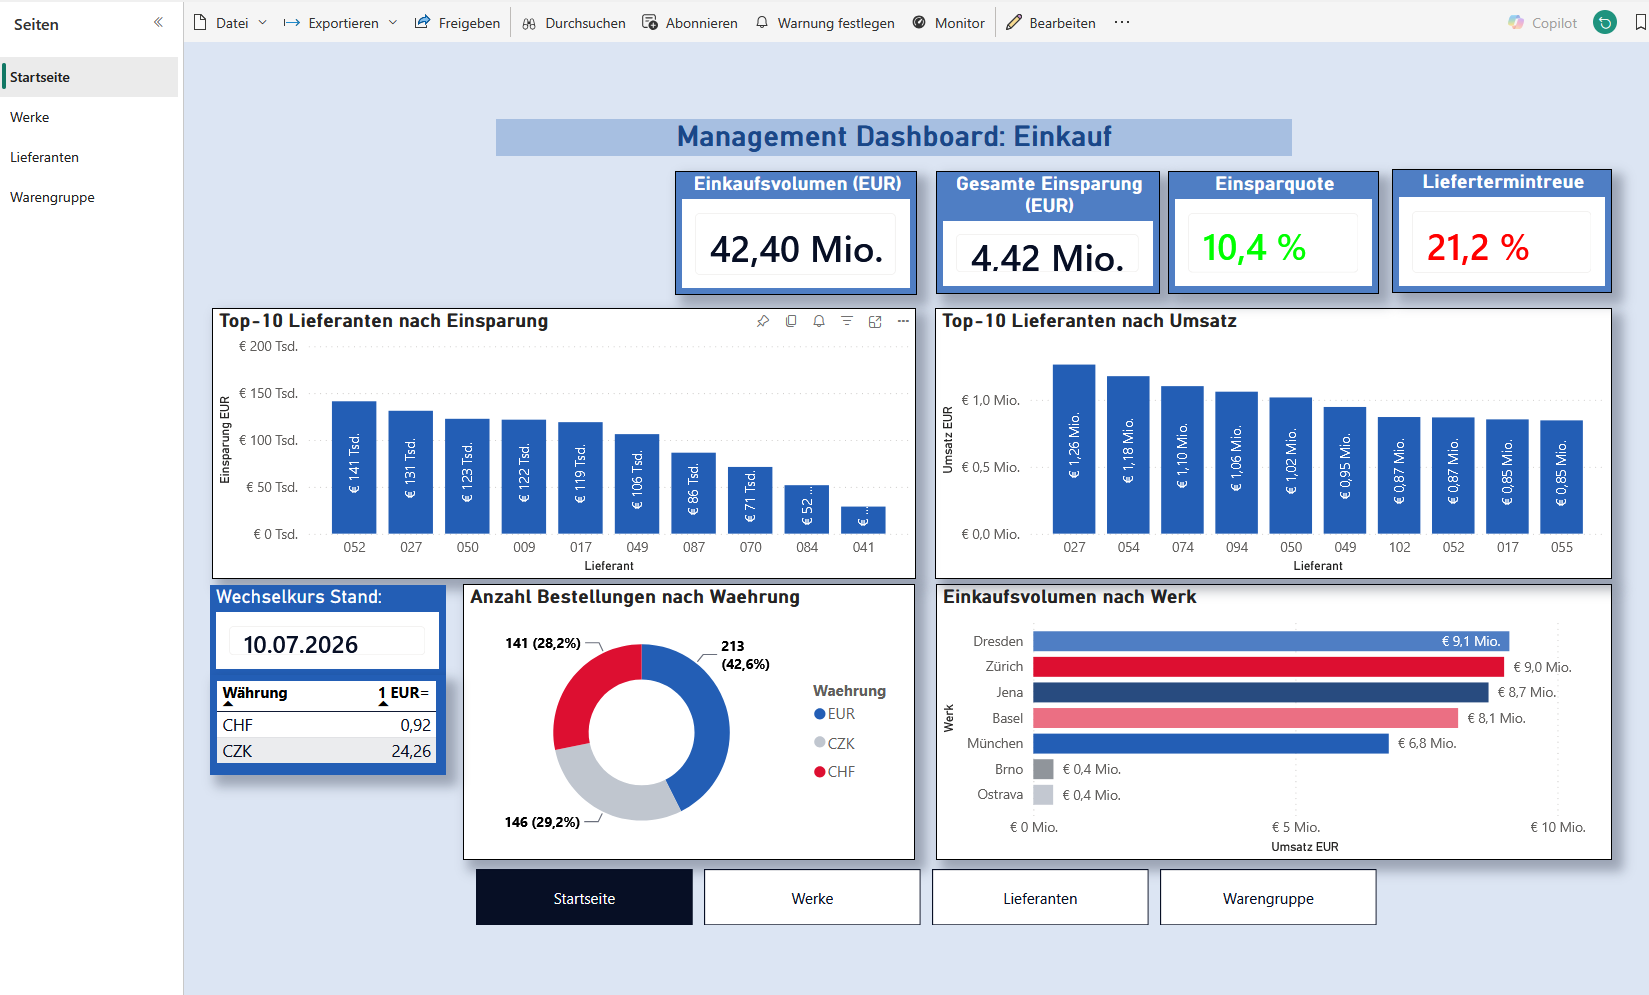

This screenshot's page, from the dashboard's own definition file:
{"tool":"powerbi","page":{"name":"Startseite","canvas":[1280,720],"ordinal":0},"visuals":[{"type":"cardVisual","title":"Einkaufsvolumen (EUR)","fields":{"Data":["Einkaufsdaten.Gesamt Einkaufsvolumen EUR"]},"box":[425.7,51.4,214.3,110],"z":0},{"type":"textbox","title":"Management Dashboard: Einkauf","box":[267.5,5,705.3,32.3],"z":1000},{"type":"cardVisual","title":"Gesamte Einsparung (EUR)","fields":{"Data":["Einkaufsdaten.Gesamte Einsparung"]},"box":[657.1,51.4,198.6,108.6],"z":2000},{"type":"clusteredBarChart","title":"Einkaufsvolumen nach Werk","fields":{"Category":["Einkaufsdaten.Werk","Einkaufsdaten.Lieferant","Einkaufsdaten.Bestellnummer"],"Y":["Sum(Einkaufsdaten.Bestellwert Euro)"]},"box":[657.1,417.1,598.6,244.3],"z":3000},{"type":"columnChart","title":"Top-10 Lieferanten nach Umsatz","fields":{"Category":["Einkaufsdaten.Lieferant"],"Y":["Sum(Einkaufsdaten.Bestellwert Euro)"]},"box":[656.8,172.9,599.6,240.1],"z":4000},{"type":"columnChart","title":"Top-10 Lieferanten nach Einsparung","fields":{"Category":["Einkaufsdaten.Lieferant"],"Y":["Sum(Einkaufsdaten.Einsparung EUR)"]},"box":[16.2,172.9,623.2,240.1],"z":5000},{"type":"donutChart","fields":{"Category":["Einkaufsdaten.Waehrung"],"Y":["Einkaufsdaten.Anzahl Bestellungen"]},"box":[238.6,417.1,400,244.3],"z":6000},{"type":"pageNavigator","box":[250,670,800,50],"z":7000},{"type":"cardVisual","title":"Wechselkurs Stand:","fields":{"Data":["Wechselkurs.Stand Wechselkurse"]},"box":[14,417.9,208.9,79.9],"z":9000},{"type":"tableEx","fields":{"Values":["Wechselkurs.Währung","Wechselkurs.Einheiten pro EUR"]},"box":[14,497.8,208.9,88.3],"z":10000},{"type":"cardVisual","title":"Einsparquote","fields":{"Data":["Einkaufsdaten.Einsparquote"]},"box":[862.9,51.4,187.1,108.6],"z":11000},{"type":"cardVisual","title":"Liefertermintreue","fields":{"Data":["Einkaufsdaten.Liefertermintreue"]},"box":[1061.2,50,195,110],"z":12000}]}

Visuals, with their boxes on the page's 1280x720 design canvas (x1, y1, x2, y2). These are canvas units, not pixel positions in the 1649x995 screenshot, which may show the page scaled, cropped or inside an application window:
"Einkaufsvolumen (EUR)" cardVisual: box(426, 51, 640, 161)
"Management Dashboard: Einkauf" textbox: box(268, 5, 973, 37)
"Gesamte Einsparung (EUR)" cardVisual: box(657, 51, 856, 160)
"Einkaufsvolumen nach Werk" clusteredBarChart: box(657, 417, 1256, 661)
"Top-10 Lieferanten nach Umsatz" columnChart: box(657, 173, 1256, 413)
"Top-10 Lieferanten nach Einsparung" columnChart: box(16, 173, 639, 413)
donutChart - Einkaufsdaten.Waehrung x Einkaufsdaten.Anzahl Bestellungen: box(239, 417, 639, 661)
pageNavigator: box(250, 670, 1050, 720)
"Wechselkurs Stand:" cardVisual: box(14, 418, 223, 498)
tableEx - Wechselkurs.Währung x Wechselkurs.Einheiten pro EUR: box(14, 498, 223, 586)
"Einsparquote" cardVisual: box(863, 51, 1050, 160)
"Liefertermintreue" cardVisual: box(1061, 50, 1256, 160)
